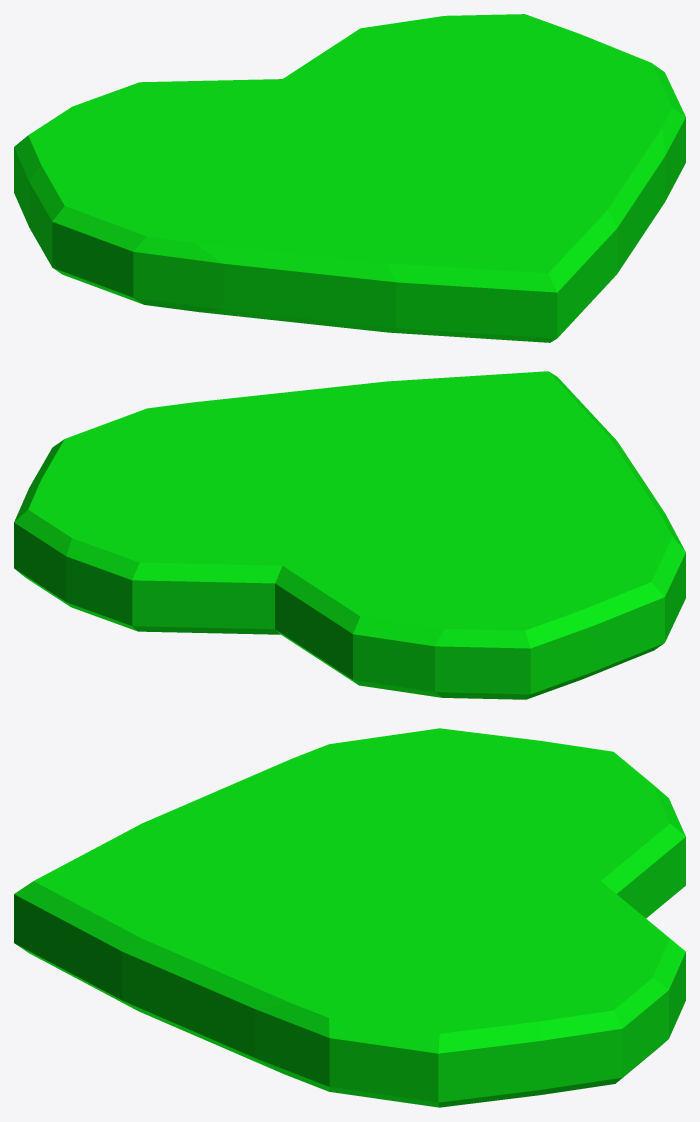
The model's file is Plain Cat Tree.fbx.
The picture shows the model from 3 angles, top to bottom: view 1: azimuth 30°, elevation 25°; view 2: azimuth 150°, elevation 25°; view 3: azimuth 270°, elevation 25°; orthographic projection. The views are drawn at different scales.
Parts seen in each view (by area): view 1: Heart; view 2: Heart; view 3: Heart.
Boxes of the visible parts, x1,y1,x2,y2 form: Heart: [14, 14, 685, 342]; Heart: [14, 371, 685, 699]; Heart: [14, 728, 685, 1107].
Size of the model in its own units: 277 by 29.4 by 247.
